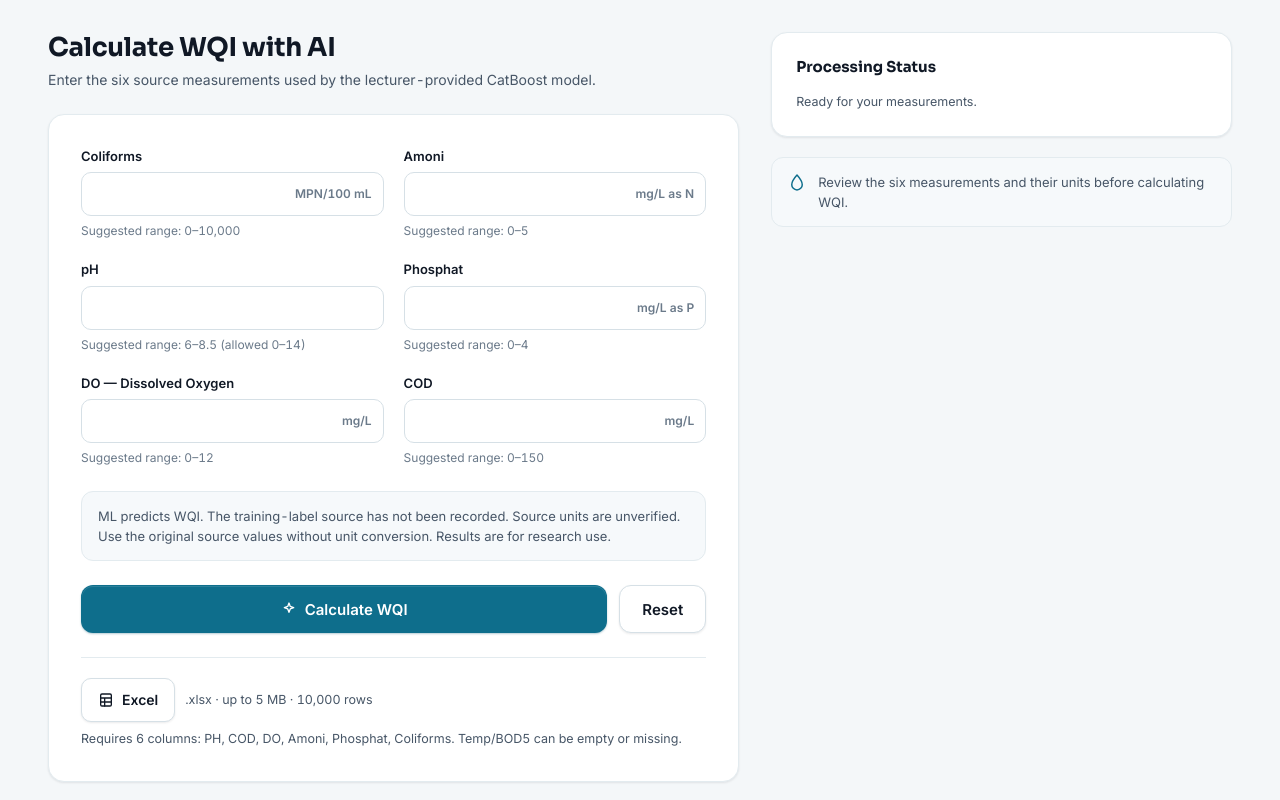
Scenario: prediction screens › localizes backend field errors and hides arbitrary technical messages
Expected: the button "Calculate WQI" is enabled, [81,585,607,633]
In the number field labelled "Coliforms": (232, 194) [81,172,384,216], type "500"
In the number field labelled "Amoni": (555, 194) [404,172,706,216], type "0.1"
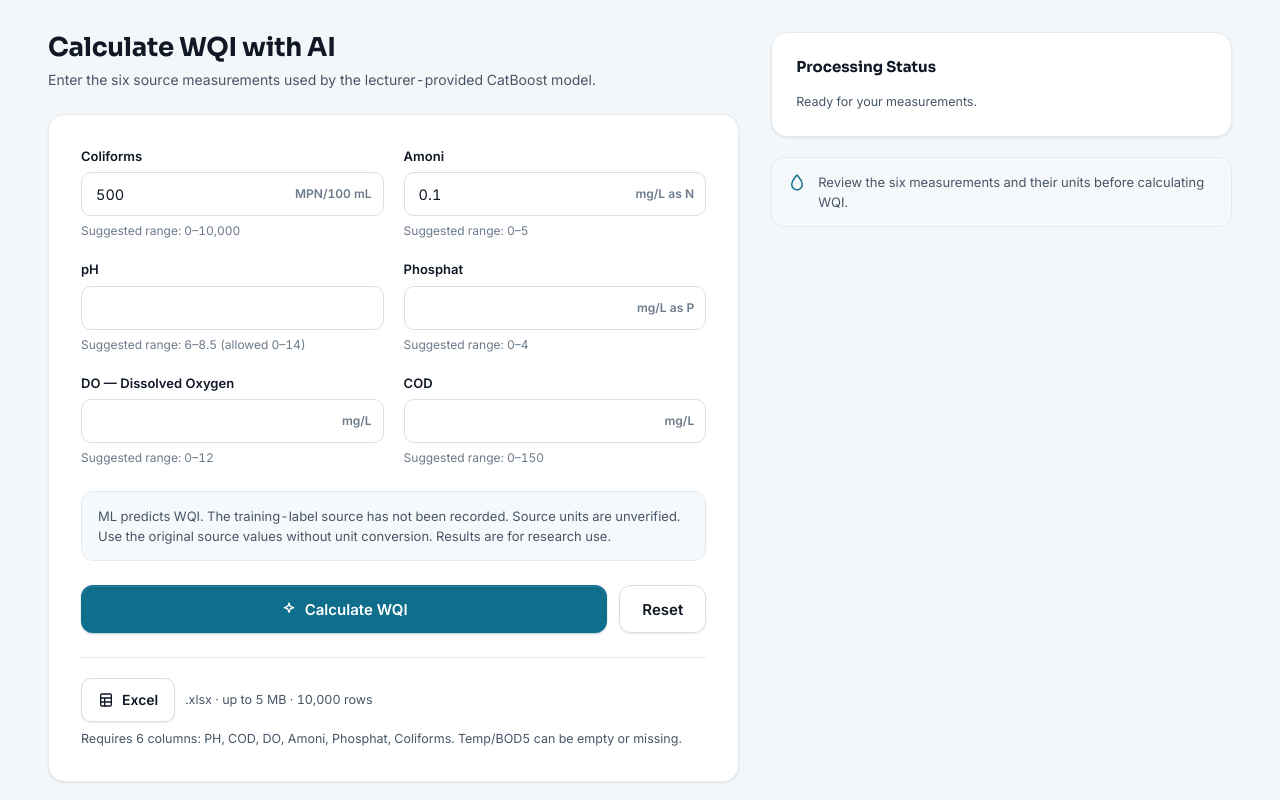
In the number field labelled "pH": (232, 308) [81,286,384,330], type "7"
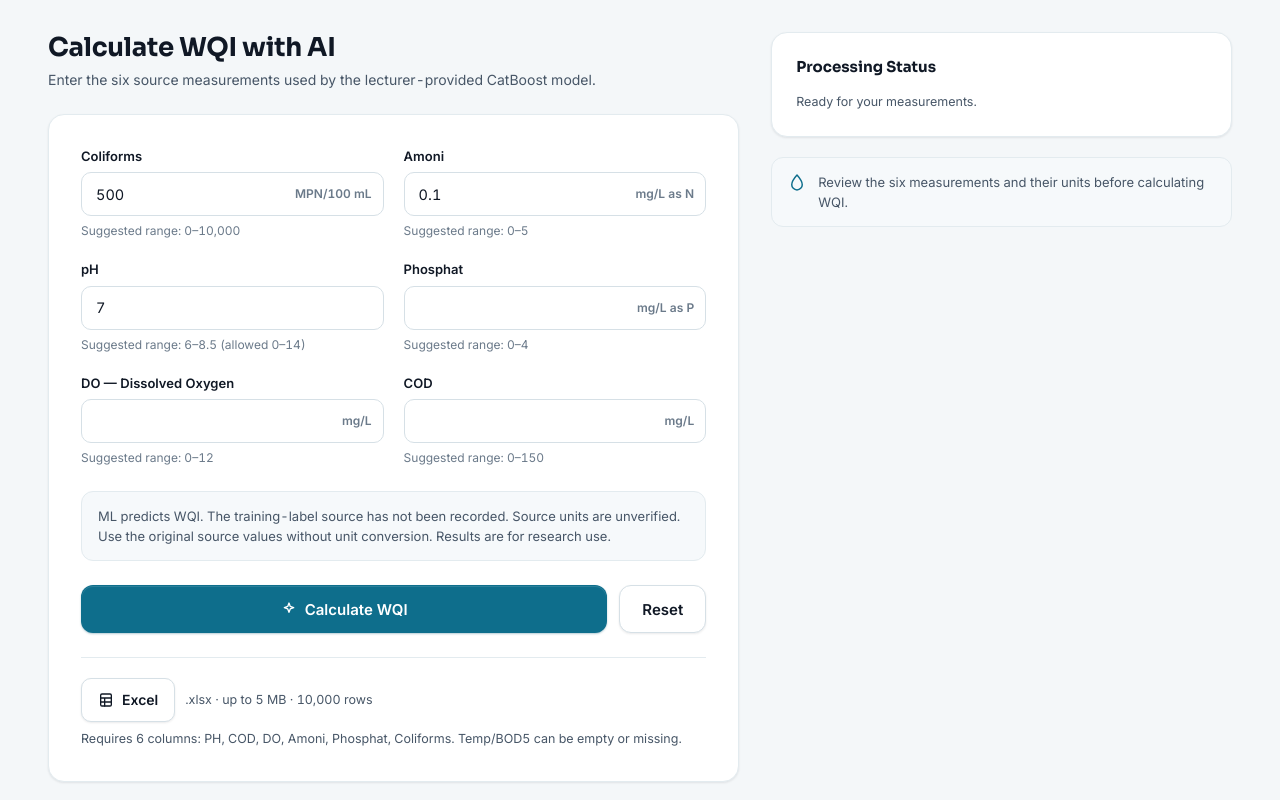
In the number field labelled "Phosphat": (555, 308) [404,286,706,330], type "0.2"
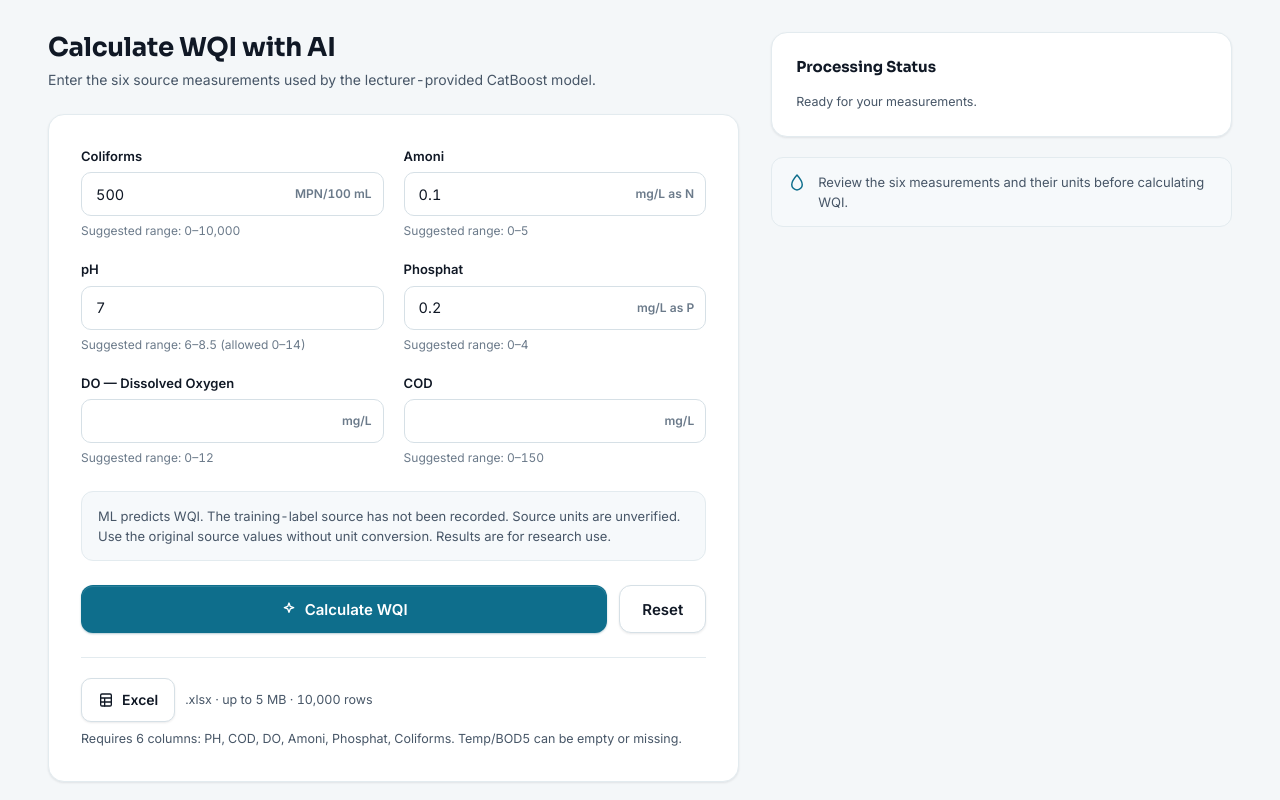
In the number field labelled "DO — Dissolved Oxygen": (232, 421) [81,399,384,443], type "6"
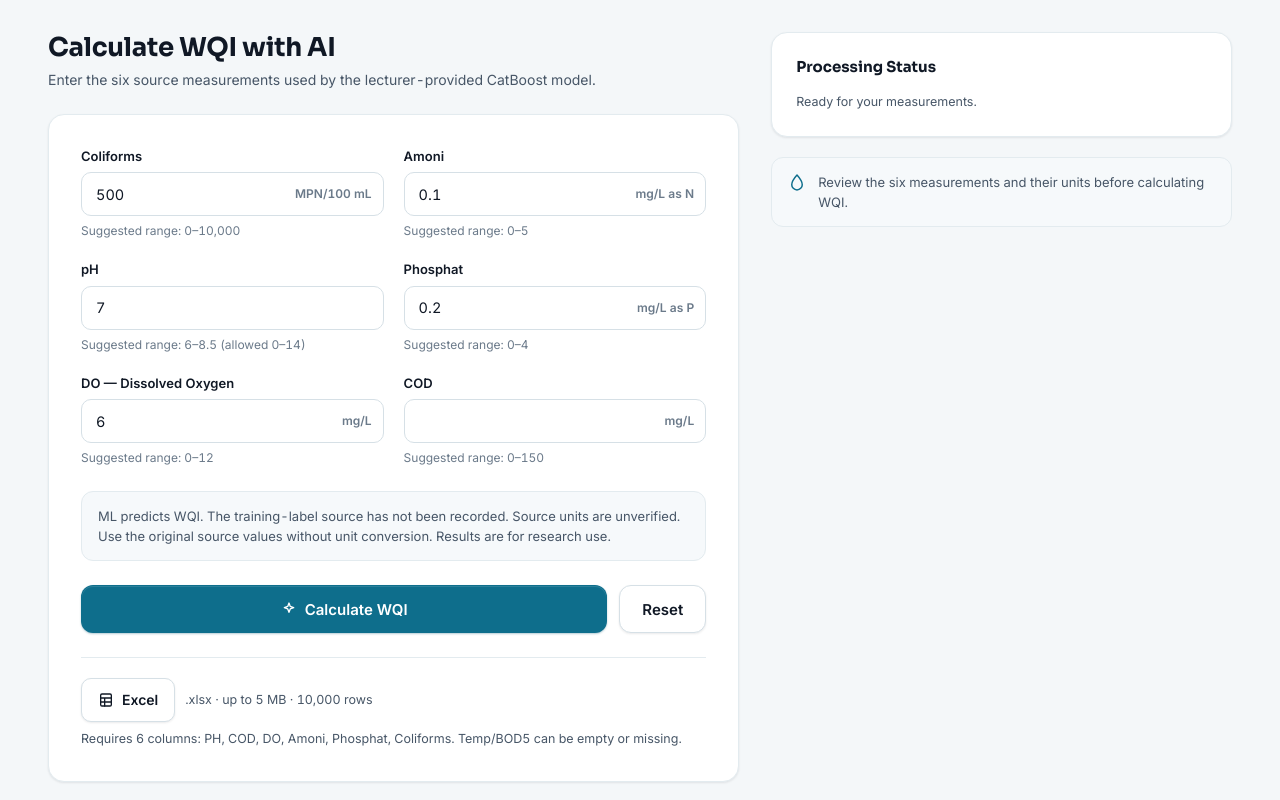
In the number field labelled "COD": (555, 421) [404,399,706,443], type "4"
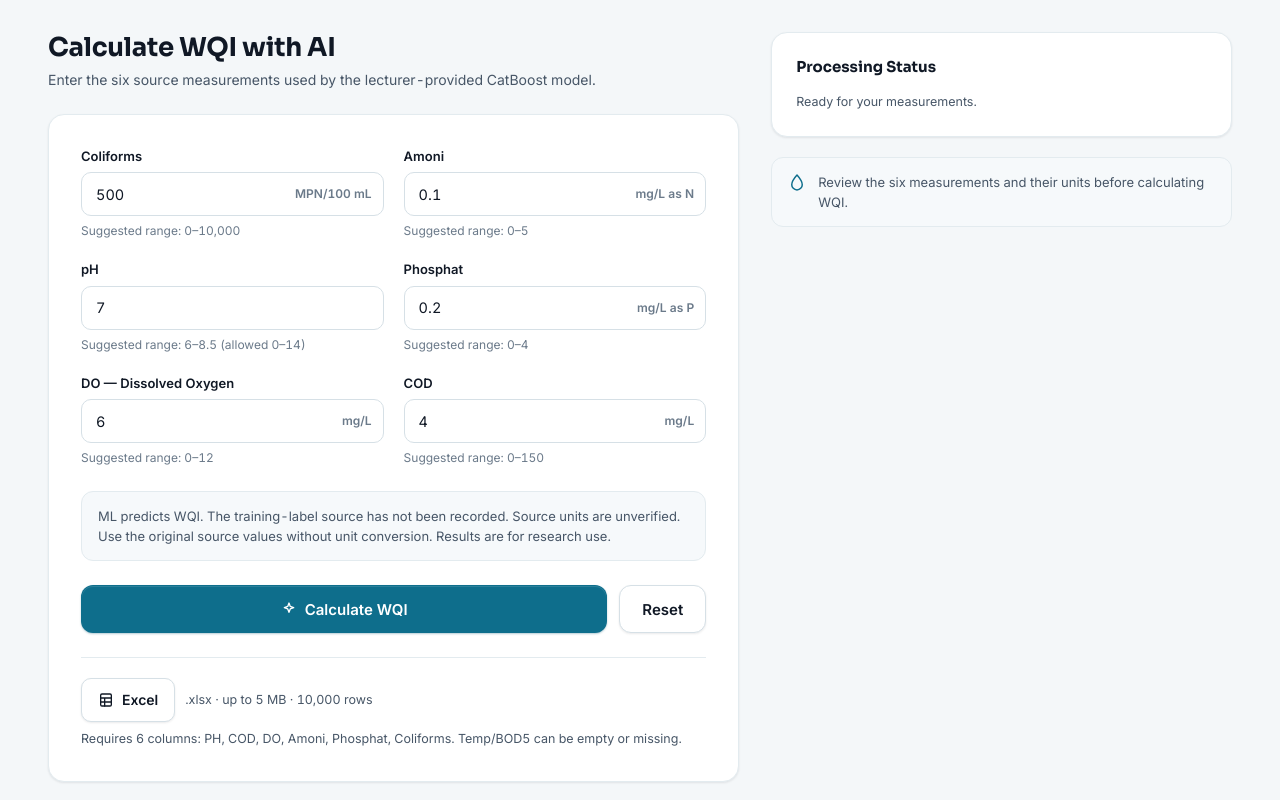
Click the button "Calculate WQI": (344, 609) [81,585,607,633]
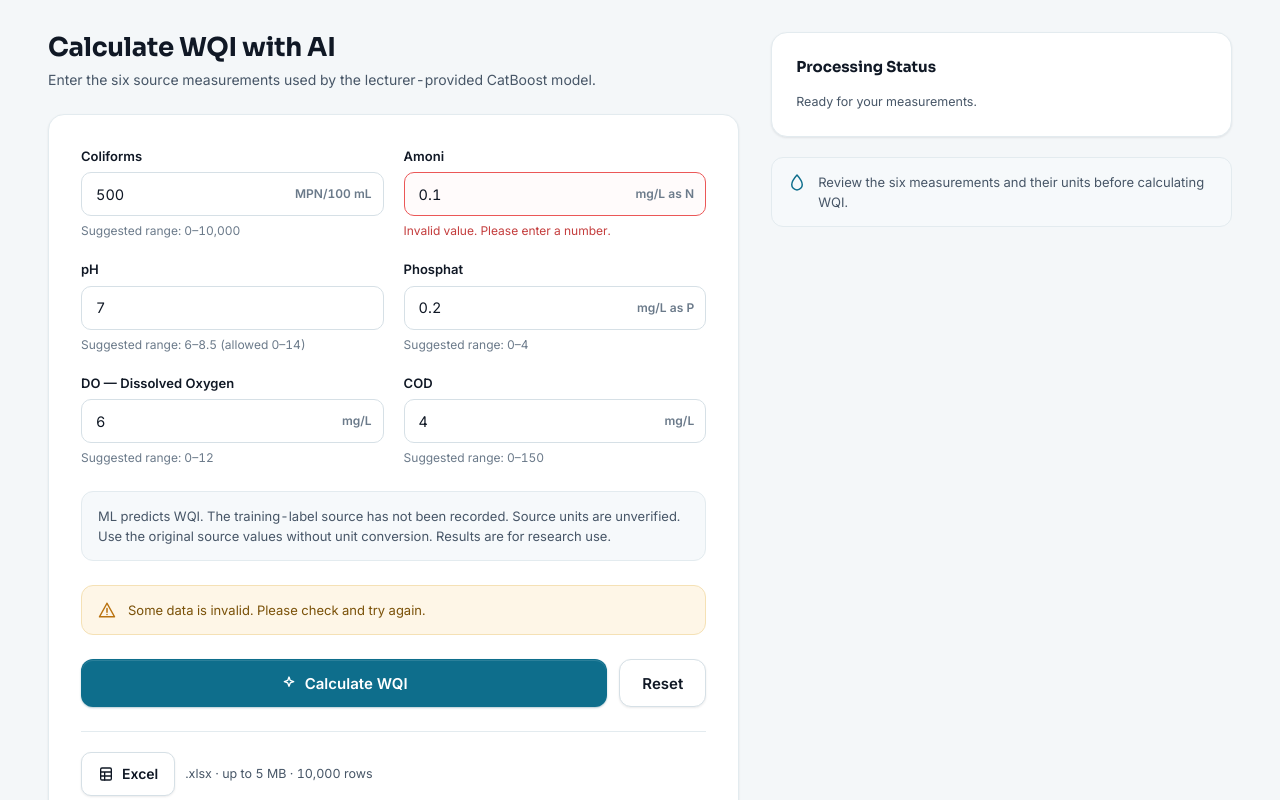
Expected: the text "Some data is invalid. Please check and try again." is shown, [128,600,426,620]
Expected: the text with id "nh4-hint" reads "Invalid value. Please enter a number.", [404,223,611,238]
